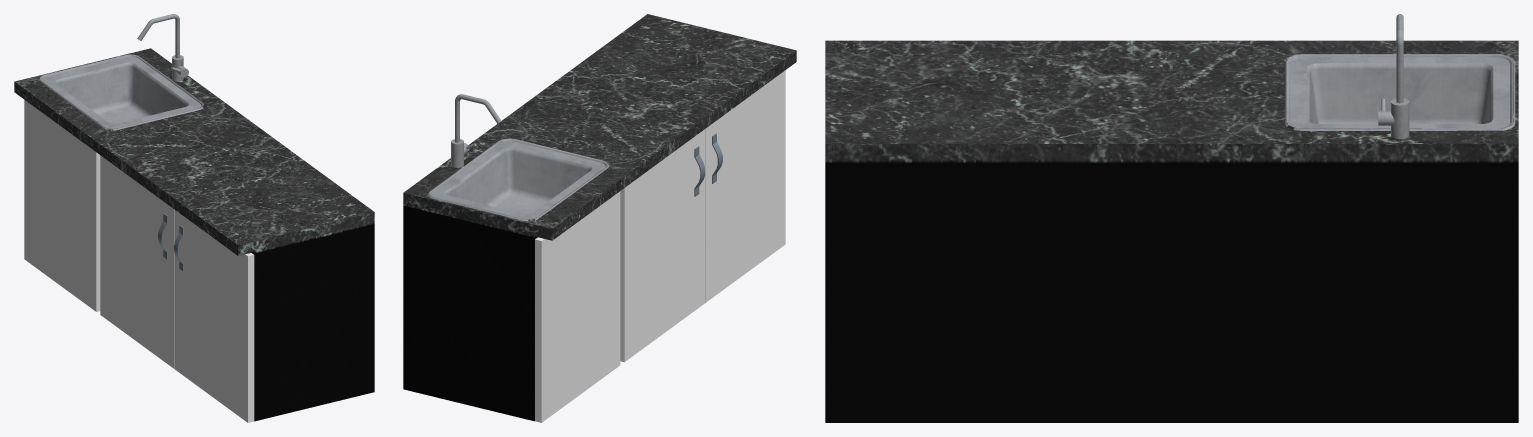
Rendered from sink.fbx.
The picture shows the model from 3 angles, left to right: view 1: azimuth 30°, elevation 25°; view 2: azimuth 150°, elevation 25°; view 3: azimuth 270°, elevation 25°; orthographic projection. The views are drawn at different scales.
Visible parts, largest first — view 1: body, right_door, left_door; view 2: body, left_door, right_door; view 3: body.
Part boxes in pixels (bbox=[...]): body: bbox=[14, 14, 374, 421]; right_door: bbox=[174, 209, 254, 422]; left_door: bbox=[100, 155, 174, 368]; body: bbox=[403, 14, 796, 422]; left_door: bbox=[620, 129, 705, 362]; right_door: bbox=[705, 70, 785, 302]; body: bbox=[825, 14, 1518, 422].
Size of the model in its own units: 65.9 by 113 by 187.
